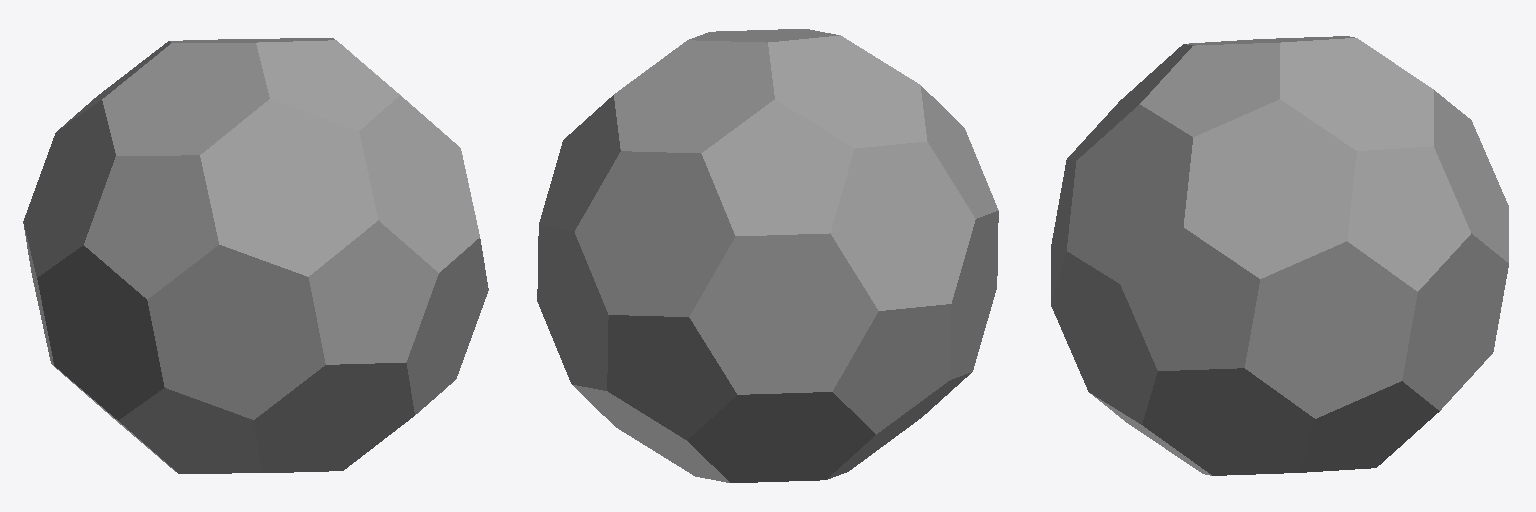
Rendered from emd_sp019_en_shot01.obj.
The picture shows the model from 3 angles: view 1: azimuth 30°, elevation 25°; view 2: azimuth 150°, elevation 25°; view 3: azimuth 270°, elevation 25°; orthographic projection.
Parts seen in each view (by area): view 1: _meshIndex0.001; view 2: _meshIndex0.001; view 3: _meshIndex0.001.
Part boxes in pixels (left/top/right/bottom): _meshIndex0.001: left=23, top=38, right=488, bottom=473; _meshIndex0.001: left=537, top=29, right=998, bottom=482; _meshIndex0.001: left=1051, top=36, right=1508, bottom=475.
Bounding box in the file's own units: 2.37 × 2.4 × 2.34.